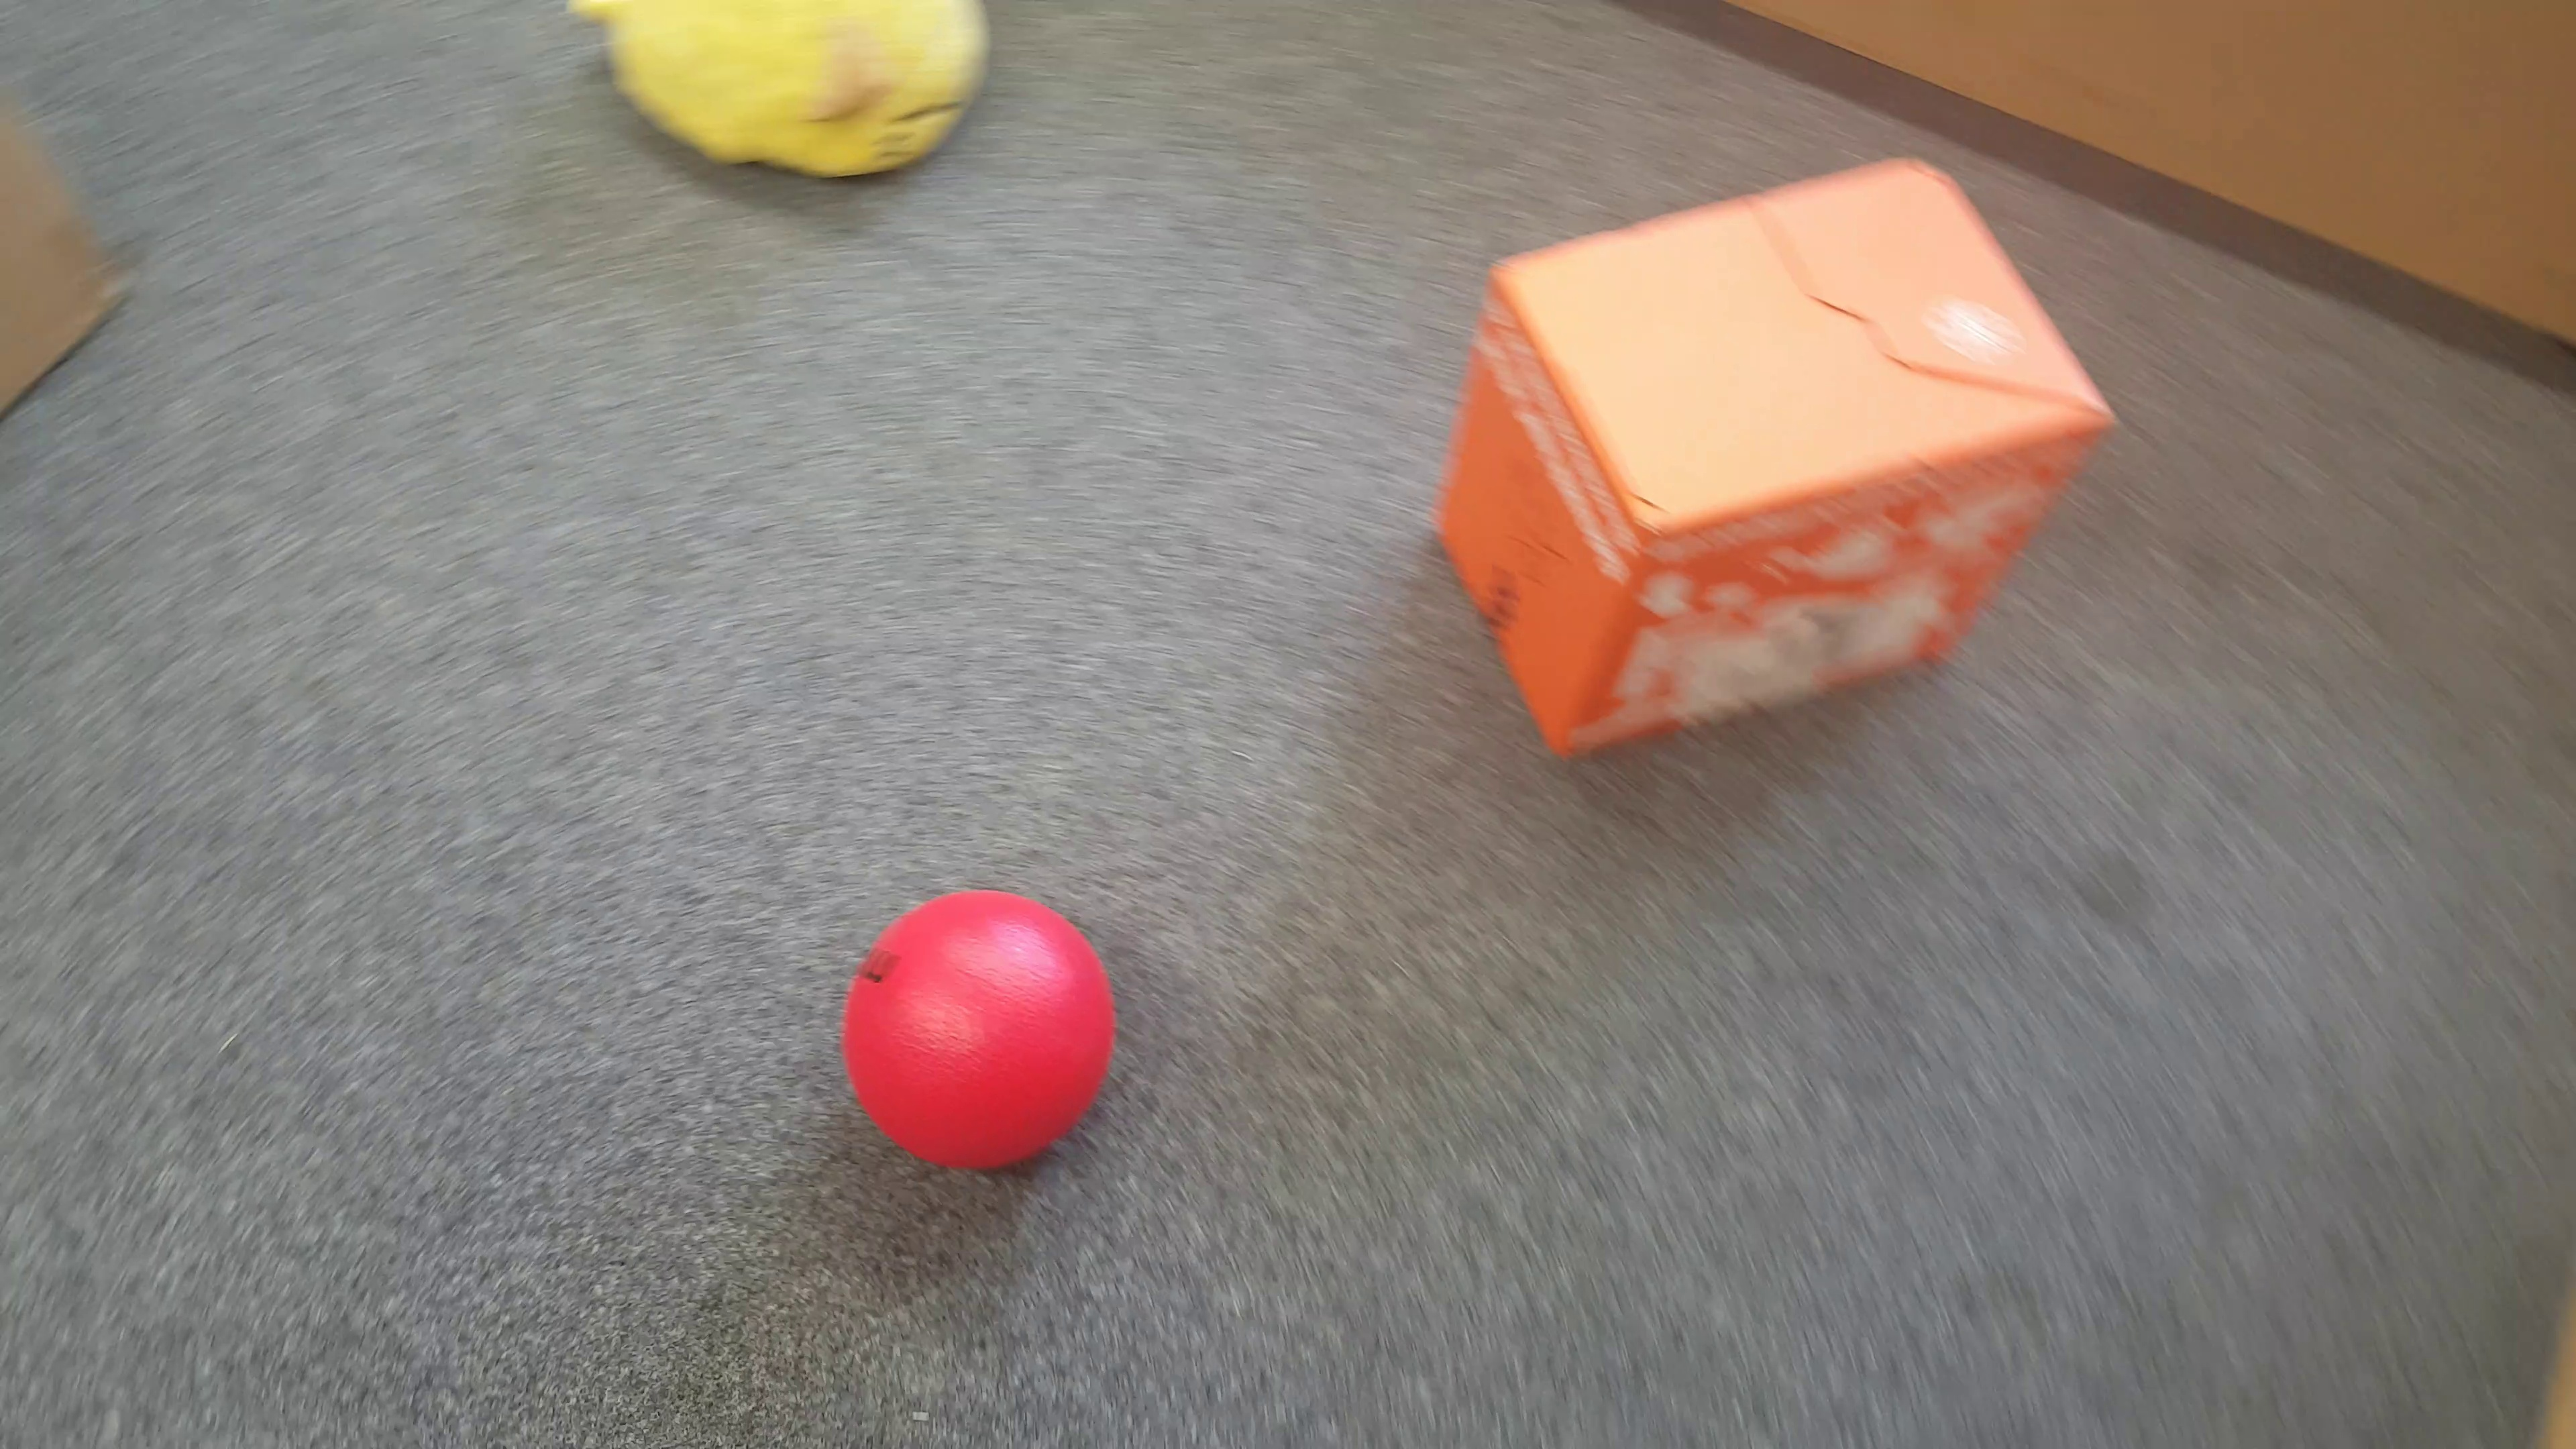grasp: (571, 0, 991, 184)
kick: (839, 885, 1122, 1164)
push: (1435, 149, 2118, 755)
